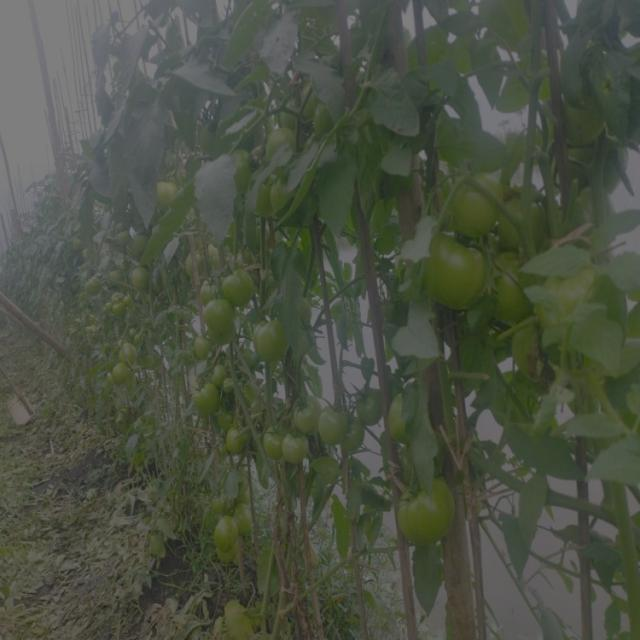tomato: (422, 241, 496, 311), (389, 477, 458, 545), (545, 264, 610, 329), (499, 256, 542, 323), (458, 169, 498, 237), (503, 191, 549, 249), (389, 390, 424, 445), (223, 261, 260, 304), (254, 325, 290, 363), (257, 126, 299, 158), (223, 150, 253, 192), (187, 388, 226, 420), (354, 388, 384, 427), (260, 168, 281, 223), (116, 223, 151, 255), (313, 99, 340, 139), (323, 404, 349, 444), (220, 516, 241, 564), (201, 304, 234, 333), (293, 399, 320, 432), (272, 99, 305, 126), (285, 436, 311, 466), (155, 183, 180, 212), (268, 425, 284, 462), (227, 427, 247, 456), (107, 298, 134, 317), (197, 276, 218, 299), (134, 266, 154, 290), (184, 254, 205, 276), (111, 363, 131, 386), (296, 298, 312, 326), (301, 333, 317, 358), (193, 335, 211, 357), (213, 494, 234, 512), (119, 342, 139, 360), (355, 430, 370, 453), (81, 275, 99, 294), (107, 270, 123, 289), (211, 368, 228, 384), (242, 506, 252, 533), (82, 250, 93, 261), (71, 241, 85, 248)
